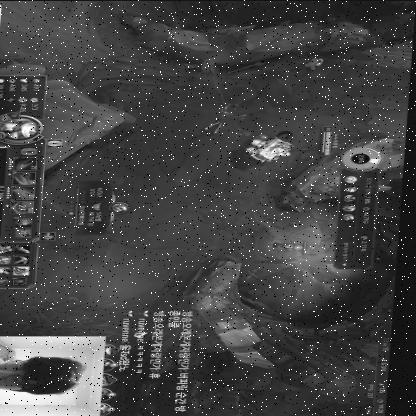streamer: (0, 347, 94, 409)
